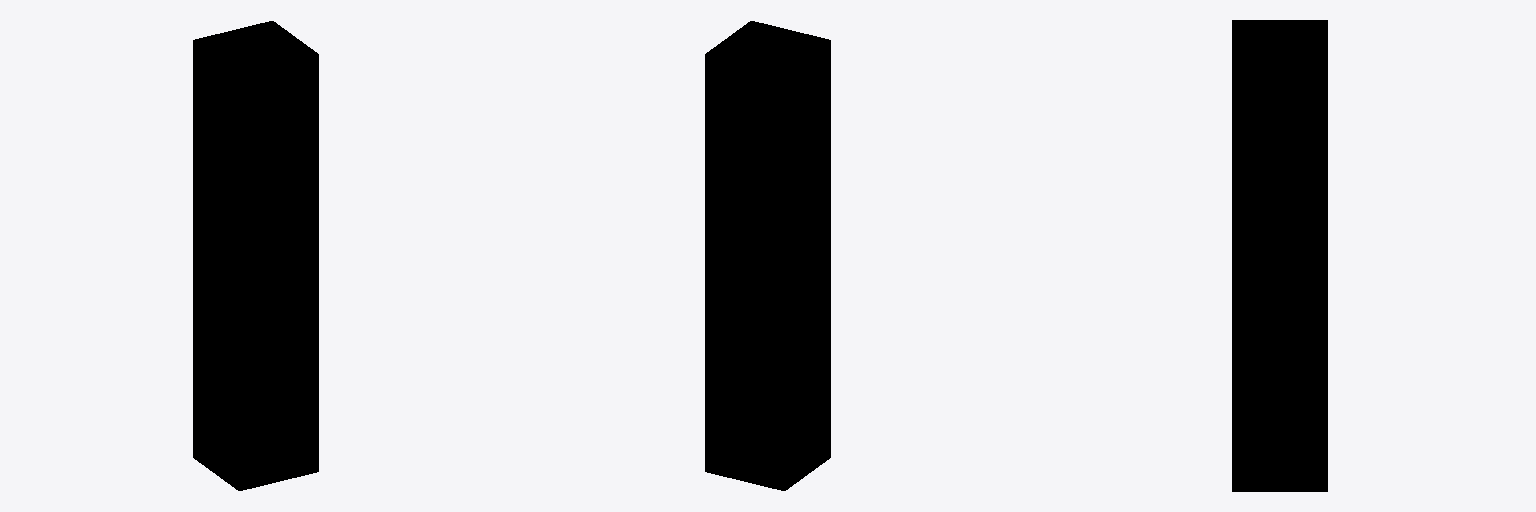
robot.urdf — rectangle.urdf:
<?xml version="1.0" ?>
<robot name="rectangle.urdf">
  <link name="baseLink">
    <contact>
      <!-- <lateral_friction value="1.0"/>
      <inertia_scaling value="3.0"/> -->
      <!-- <friction_anchor/> -->
      <!-- <lateral_friction value="1.3"/> -->
      <!-- <rolling_friction value="1.3"/> -->
      <!-- <lateral_friction value="20"/> -->
      <stiffness value="300"/>
      <!-- <damping value="10"/> -->
      <!-- <damping value="20"/> -->
    </contact>
    <inertial>
      <origin rpy="0 0 0" xyz="0.0225 0.000 0.0047"/>
       <mass value="0.113"/>
       <inertia ixx="0.00004688" ixy="0" ixz="0" iyy="0.00004688" iyz="0" izz="0.00004688"/>
    </inertial>
    <visual>
      <origin rpy="0 0 0" xyz="0.0225 0.000 0.0047"/>
      <geometry>
	<mesh filename="./obj/rectangle.obj" scale=".001 .001 .005"/>
      </geometry>
      <material name="black">
        <color rgba="0 0 0 1"/>
     </material>
    </visual>
    <collision>
      <origin rpy="0 0 0" xyz="0.0225 0.000 0.0047"/>
      <geometry>
	<mesh filename="./obj/rectangle.obj" scale=".001 .001 .005"/>
      </geometry>
    </collision>
  </link>
</robot>

--- Facts derived from the render (not from the file) ---
3 views of the same robot in one strip: view 1: azimuth 30°, elevation 25°; view 2: azimuth 150°, elevation 25°; view 3: azimuth 270°, elevation 25° (orthographic).
Model rectangle.urdf with 1 links and 0 joints (none), rooted at baseLink, posed all joints at 0.
Visible links, largest first — view 1: baseLink; view 2: baseLink; view 3: baseLink.
Link boxes in pixels (x1=…): baseLink: x1=193, y1=21, x2=318, y2=490; baseLink: x1=705, y1=21, x2=830, y2=490; baseLink: x1=1232, y1=20, x2=1327, y2=491.
Size in the robot's own frame: 0.05 by 0.05 by 0.25 metres.
1 mesh visuals loaded from 1 distinct referenced files (1 OBJ).
